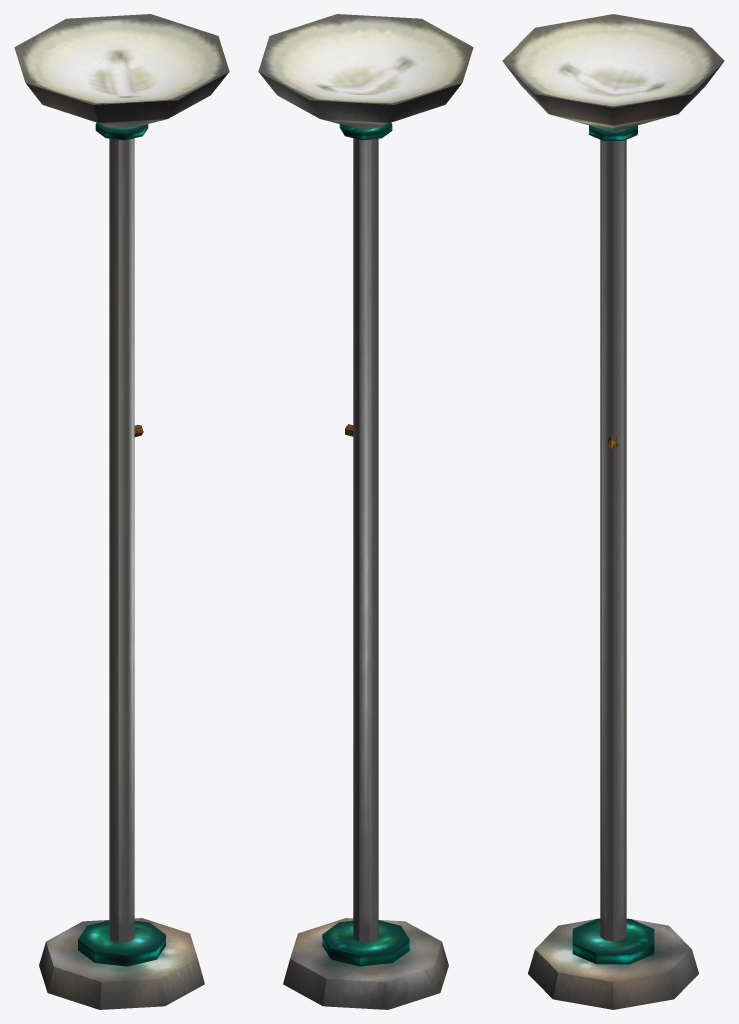
The model's file is gray_grnglass.fbx.
3 renders of one model, left to right at view 1: azimuth 30°, elevation 25°; view 2: azimuth 150°, elevation 25°; view 3: azimuth 270°, elevation 25°, orthographic.
Parts seen in each view (by area): view 1: mesh_0; view 2: mesh_0; view 3: mesh_0.
Boxes of the visible parts, x1,y1,x2,y2 form: mesh_0: (14, 14, 229, 1009); mesh_0: (258, 14, 473, 1009); mesh_0: (502, 14, 724, 1009).
Bounding box in the file's own units: 38.86 × 176 × 38.86.
Materials: 1 (1 with a texture image).
